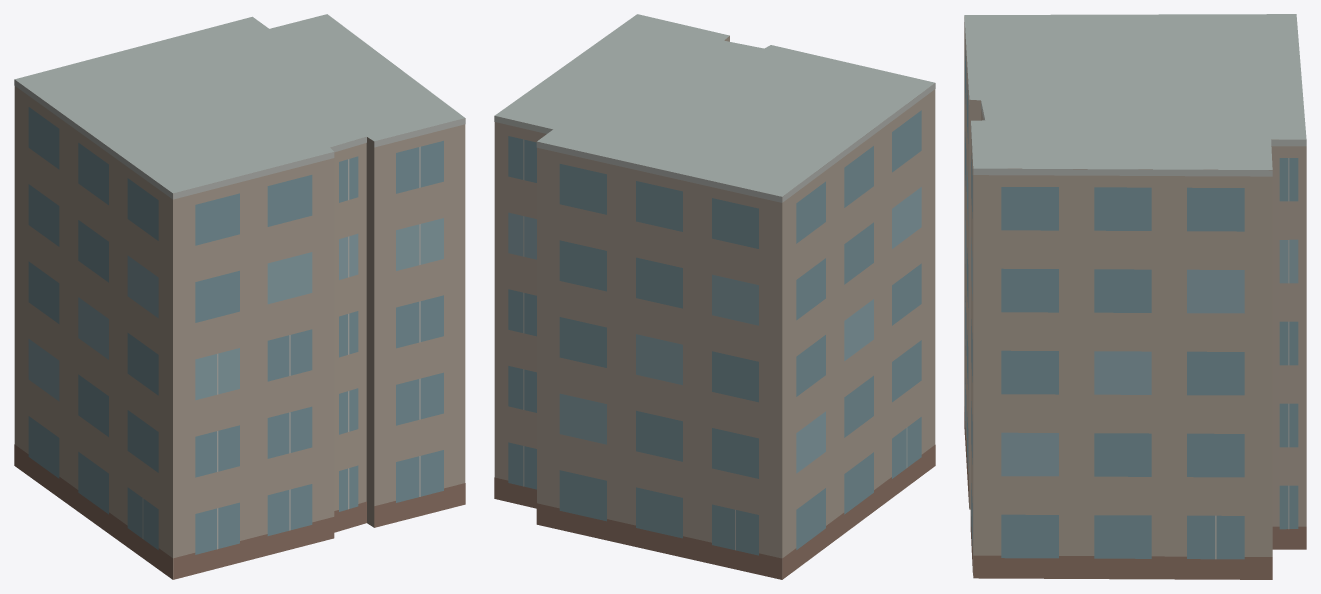
Rendered from survey-upis-33017971.glb.
3 renders of one model, left to right at view 1: azimuth 30°, elevation 25°; view 2: azimuth 150°, elevation 25°; view 3: azimuth 270°, elevation 25°, orthographic. The views are drawn at different scales.
Parts seen in each view (by area): view 1: survey-upis-33017971.tmp; view 2: survey-upis-33017971.tmp; view 3: survey-upis-33017971.tmp.
Part boxes in pixels (x1=…): survey-upis-33017971.tmp: x1=14, y1=14, x2=465, y2=579; survey-upis-33017971.tmp: x1=494, y1=14, x2=935, y2=579; survey-upis-33017971.tmp: x1=964, y1=14, x2=1306, y2=579.
Bounding box in the file's own units: 12.5 × 15.3 × 11.59.
